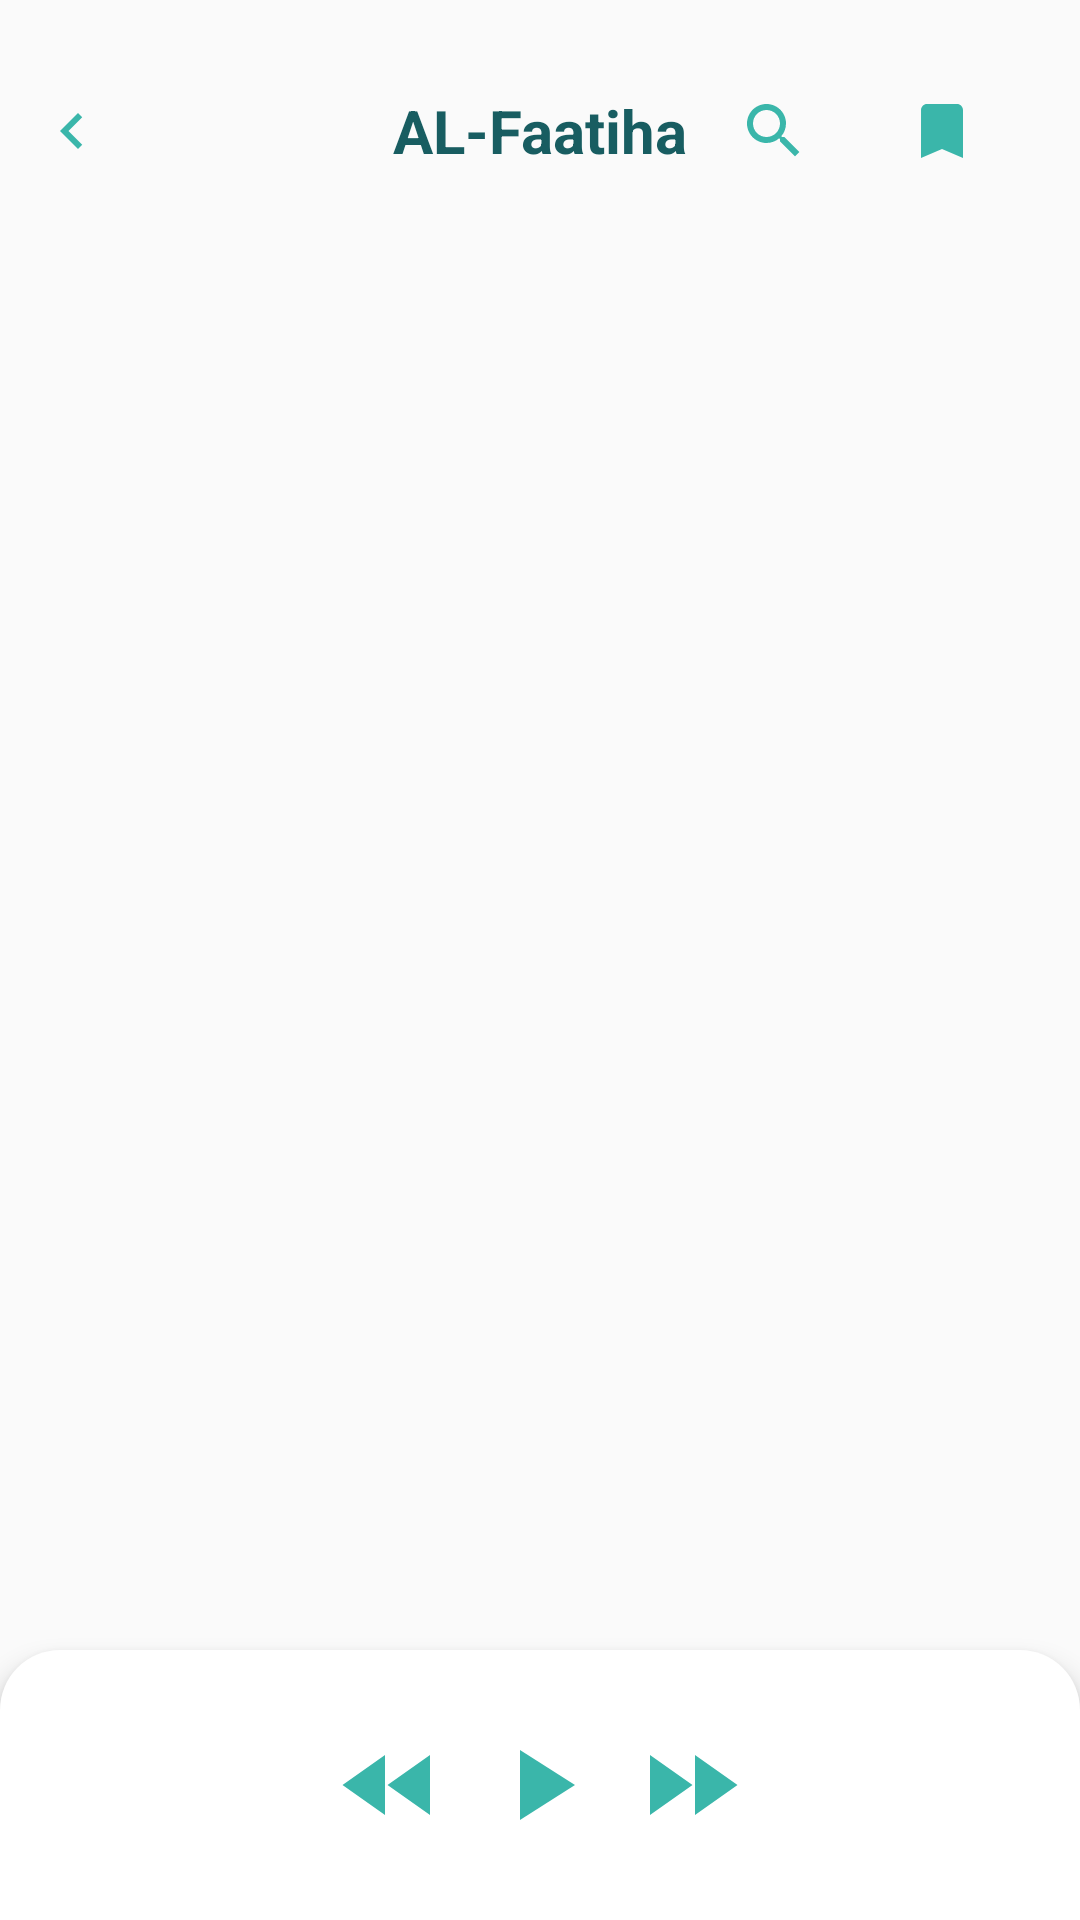

Where to tap for icons on this 1080px×1920px app screen, as (x,y):
bookmark: (942,131)
forward: (693,1785)
navigate before: (71,131)
play: (547,1785)
rewind: (386,1785)
